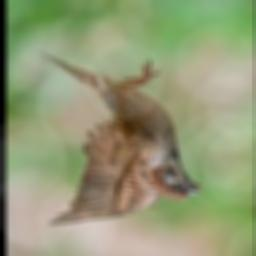Sparrow: (38, 52, 204, 225)
